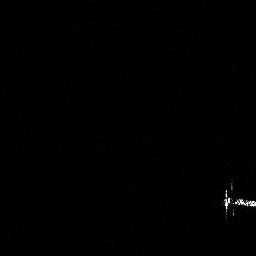ship: (222, 181, 256, 216)
